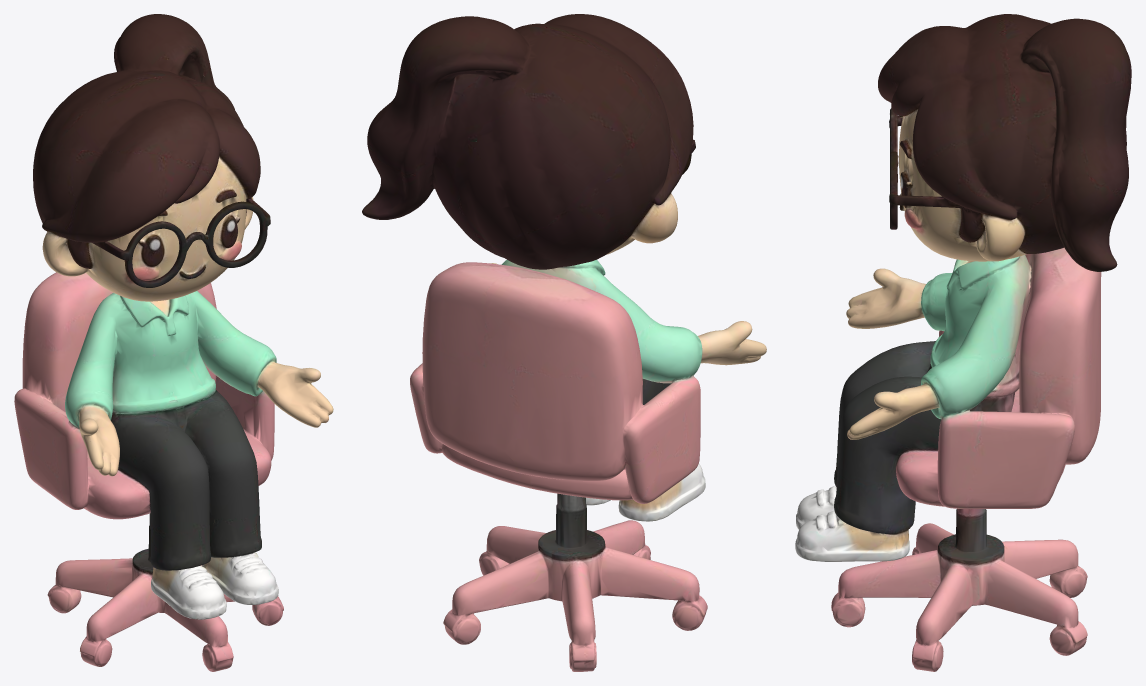
The model's file is seat_mentor.glb.
The picture shows the model from 3 angles, left to right: view 1: azimuth 30°, elevation 25°; view 2: azimuth 150°, elevation 25°; view 3: azimuth 270°, elevation 25°; orthographic projection. The views are drawn at different scales.
Size of the model in its own units: 0.8707 by 1.9 by 0.9308.
1 material, 1 textured.
